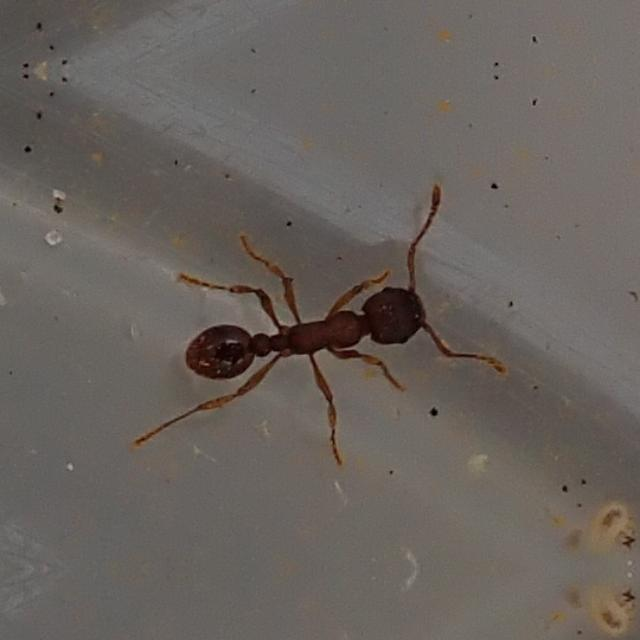Myrmica: (156, 208, 452, 446)
